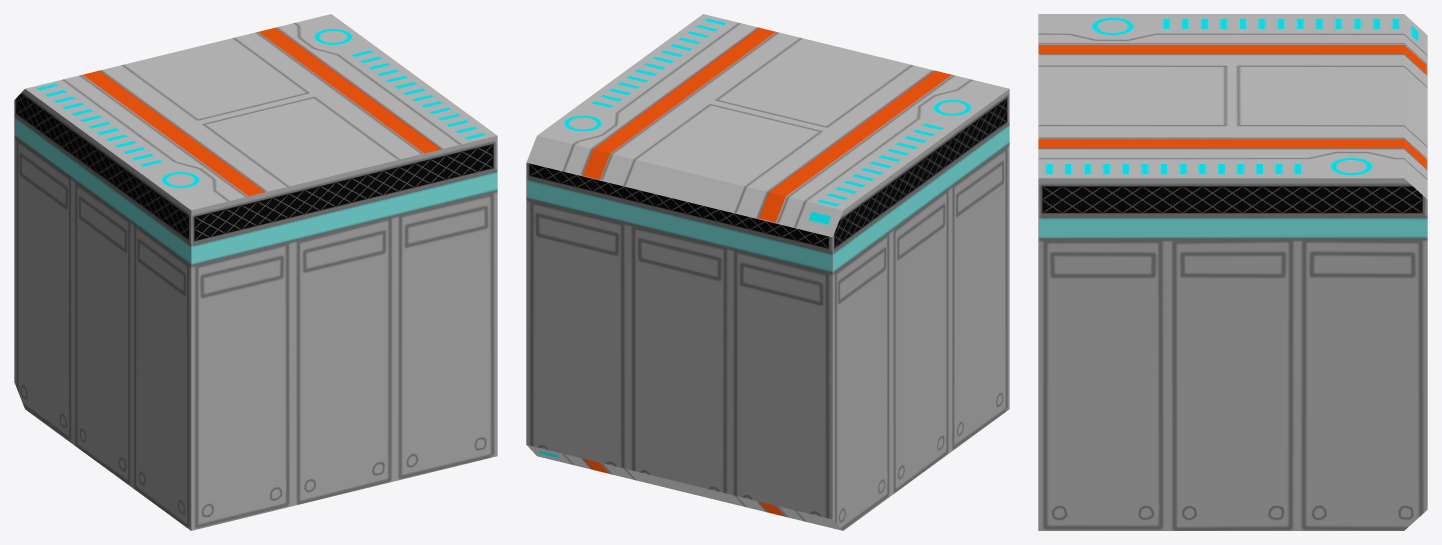
The model's file is base_block_both.fbx.
3 views of the same model, side by side, from view 1: azimuth 30°, elevation 25°; view 2: azimuth 150°, elevation 25°; view 3: azimuth 270°, elevation 25° (orthographic). The views are drawn at different scales.
Parts seen in each view (by area): view 1: base_block_both; view 2: base_block_both; view 3: base_block_both.
Boxes of the visible parts, x1,y1,x2,y2 form: base_block_both: (14,14,497,530); base_block_both: (526,14,1009,530); base_block_both: (1038,14,1427,530).
Size of the model in its own units: 16 by 16 by 16.
